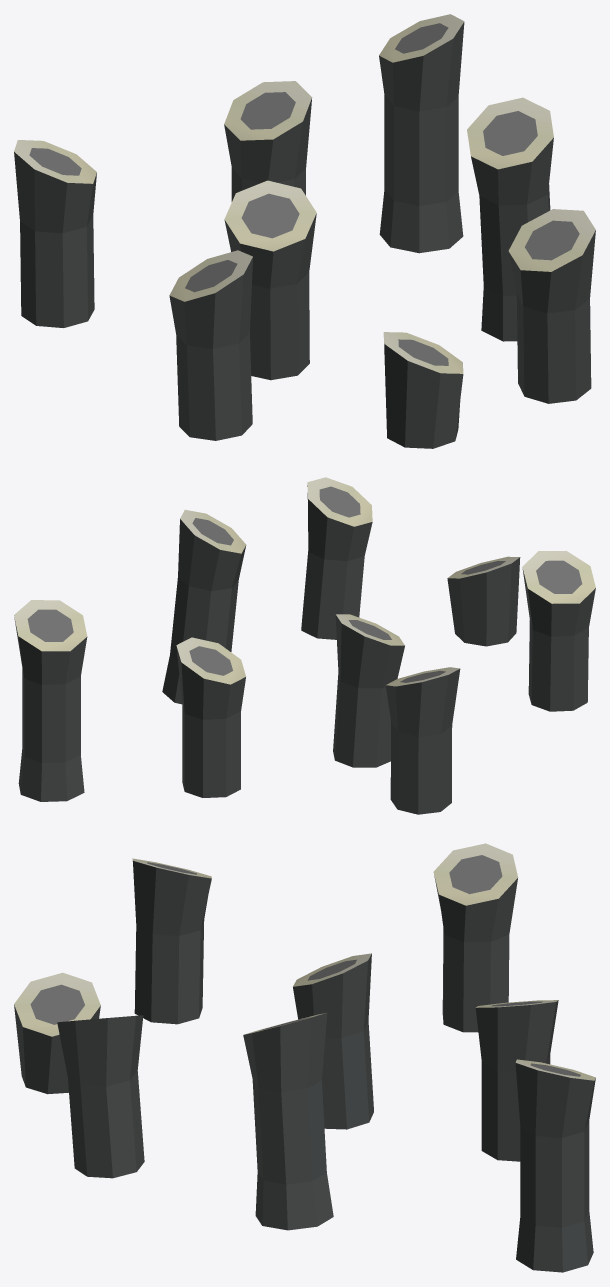
Rendered from Bamboo_2_Destructed.fbx.
3 renders of one model, top to bottom at view 1: azimuth 30°, elevation 25°; view 2: azimuth 150°, elevation 25°; view 3: azimuth 270°, elevation 25°, orthographic. The views are drawn at different scales.
Visible parts, largest first — view 1: Bamboo_2_Destructed; view 2: Bamboo_2_Destructed; view 3: Bamboo_2_Destructed.
Boxes of the visible parts, <box> form: Bamboo_2_Destructed: <box>14,14,595,448</box>; Bamboo_2_Destructed: <box>14,477,595,814</box>; Bamboo_2_Destructed: <box>14,843,595,1272</box>.
Bounding box in the file's own units: 0.6743 × 0.3169 × 0.7393.
